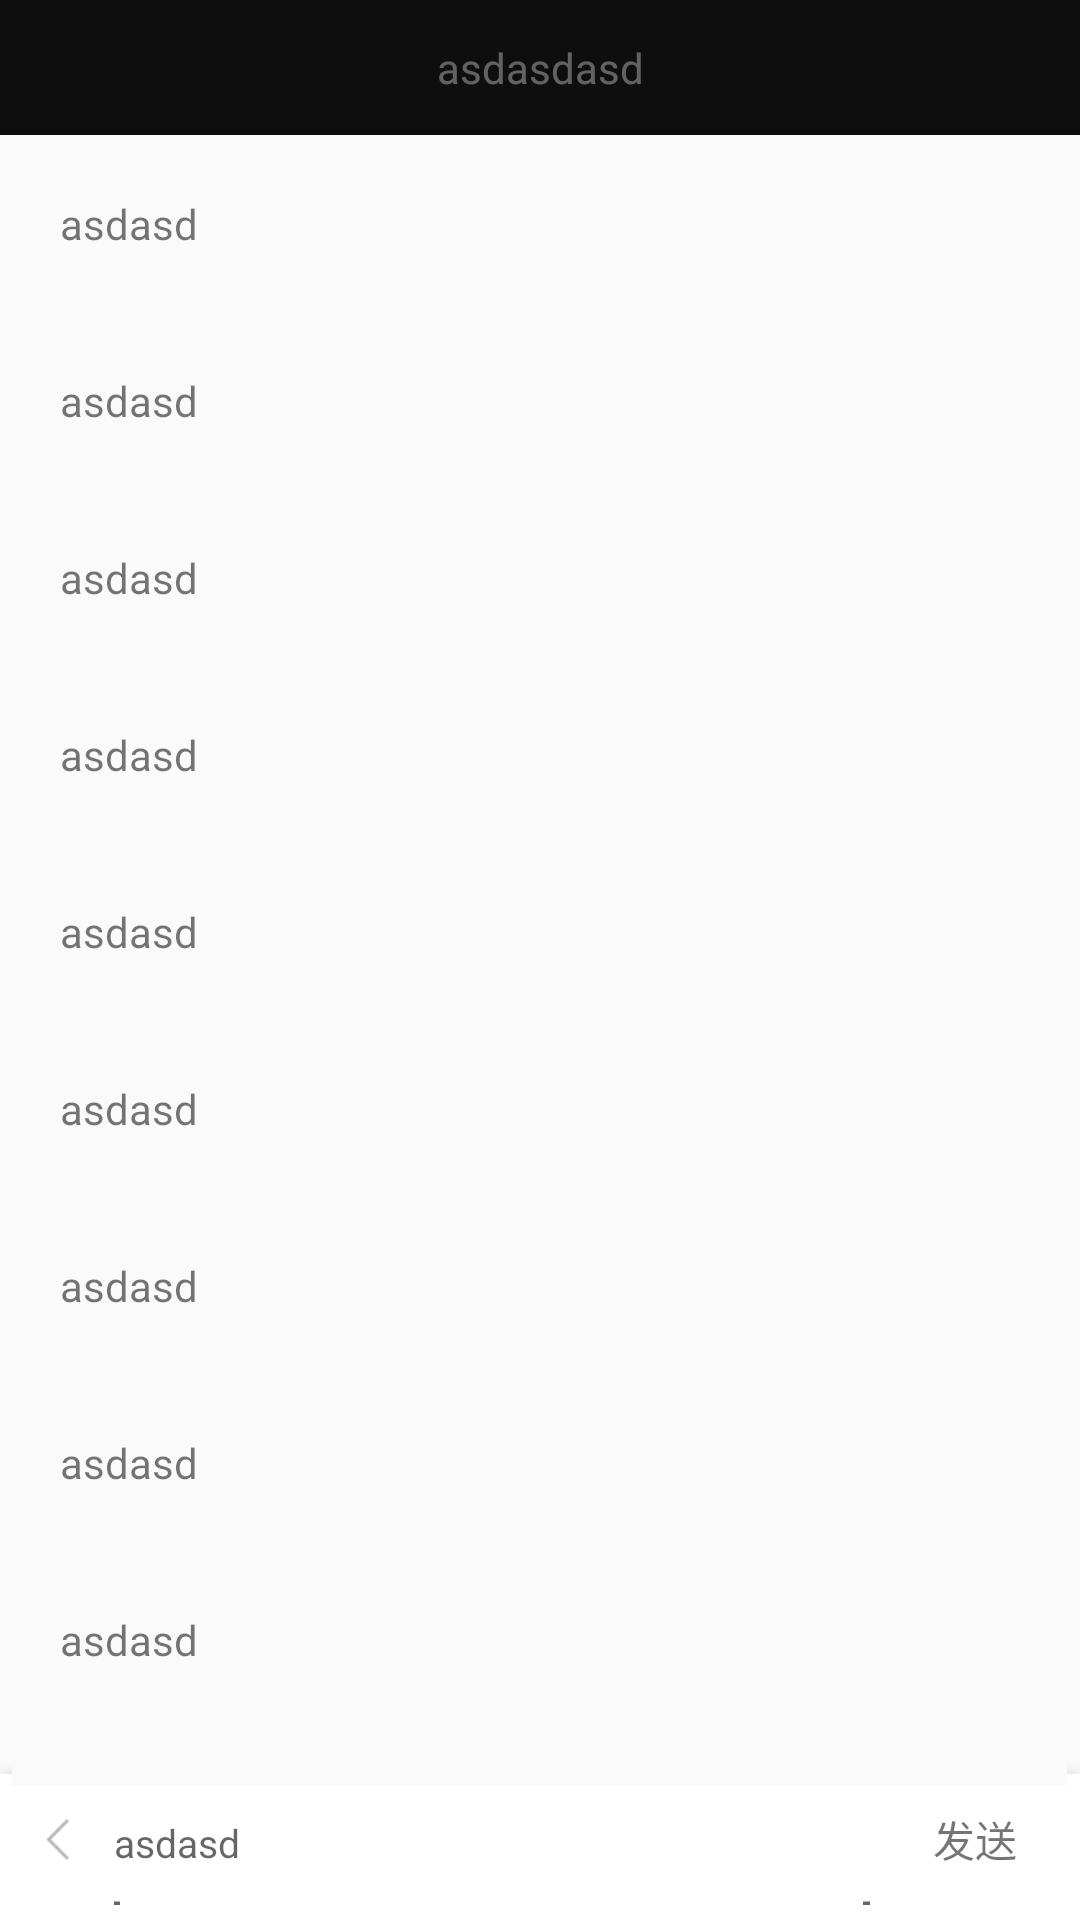

Icon click points for this 1080w x 1920h phone screenshot, format (x=x, y=y):
back: (x=57, y=1839)
